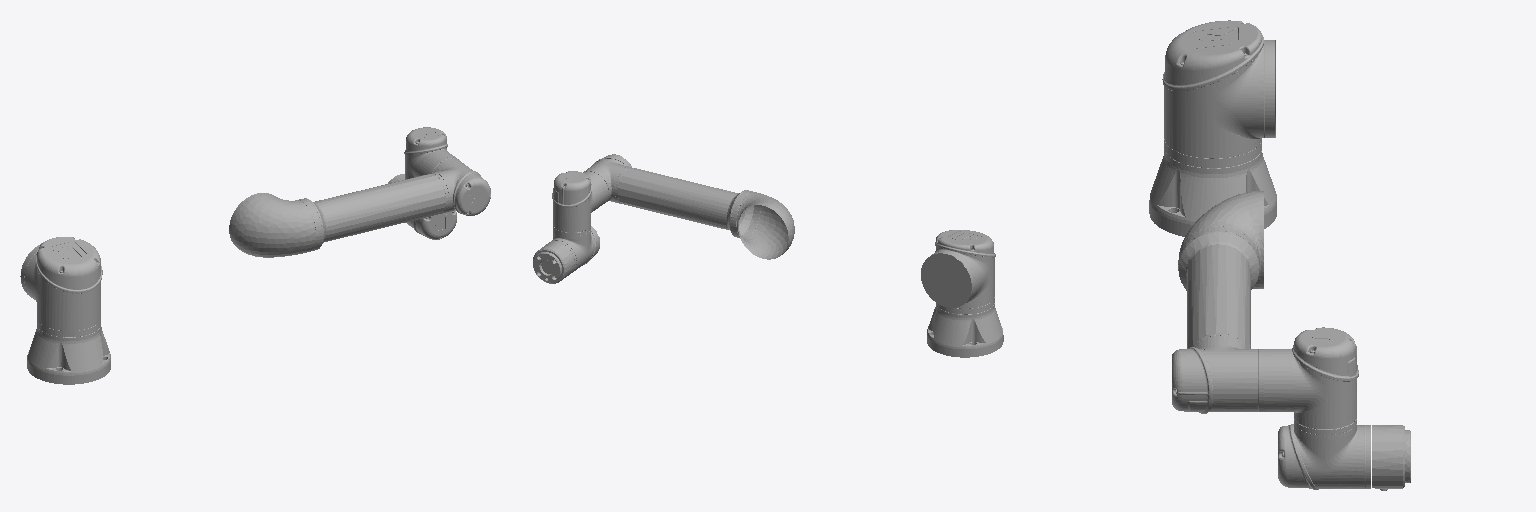
URDF robot description (ur5e_robot):
<?xml version="1.0" encoding="utf-8"?>
<!-- =================================================================================== -->
<!-- |    This document was autogenerated by xacro from ur5e.xacro                     | -->
<!-- |    EDITING THIS FILE BY HAND IS NOT RECOMMENDED                                 | -->
<!-- =================================================================================== -->
<robot name="ur5e_robot">
  <!--
    Base UR robot series xacro macro.

    NOTE: this is NOT a URDF. It cannot directly be loaded by consumers
    expecting a flattened '.urdf' file. See the top-level '.xacro' for that
    (but note: that .xacro must still be processed by the xacro command).

    For use in '.launch' files: use one of the 'load_urX.launch' convenience
    launch files.

    This file models the base kinematic chain of a UR robot, which then gets
    parameterised by various configuration files to convert it into a UR3(e),
    UR5(e), UR10(e) or UR16e.

    NOTE: the default kinematic parameters (ie: link lengths, frame locations,
    offets, etc) do not correspond to any particular robot. They are defaults
    only. There WILL be non-zero offsets between the Forward Kinematics results
    in TF (ie: robot_state_publisher) and the values reported by the Teach
    Pendant.

    For accurate (and robot-specific) transforms, the 'kinematics_parameters_file'
    parameter MUST point to a .yaml file containing the appropriate values for
    the targetted robot.

    If using the UniversalRobots/Universal_Robots_ROS_Driver, follow the steps
    described in the readme of that repository to extract the kinematic
    calibration from the controller and generate the required .yaml file.

    Main author of the migration to yaml configs: [author].

    Contributors to previous versions (in no particular order):

     - [author]
     - [author]
     - [author]
     - [author]
     - [author]
     - [author]
     - [author]
     - [author]
     - [author]
     - [author]
     - [author]
     - [author]
     - [author]
     - [author]
     - [author]
     - [author]
     - [author]
  -->
  <!--
    NOTE: the macro defined in this file is NOT part of the public API of this
          package. Users CANNOT rely on this file being available, or stored in
          this location. Nor can they rely on the existence of the macro.
  -->
  <link name="base_link"/>
  <link name="base_link_inertia">
    <visual>
      <origin rpy="0 0 3.14159265359" xyz="0 0 0"/>
      <geometry>
        <mesh filename="./meshes/ur5e/visual/base.obj"/>
      </geometry>
      <material name="LightGrey">
        <color rgba="0.7 0.7 0.7 1.0"/>
      </material>
    </visual>
    <collision>
      <origin rpy="0 0 3.14159265359" xyz="0 0 0"/>
      <geometry>
        <mesh filename="./meshes/ur5e/collision/base.obj"/>
      </geometry>
    </collision>
    <inertial>
      <mass value="4.0"/>
      <origin rpy="0 0 0" xyz="0 0 0"/>
      <inertia ixx="0.00443333156" ixy="0.0" ixz="0.0" iyy="0.00443333156" iyz="0.0" izz="0.0072"/>
    </inertial>
  </link>
  <link name="shoulder_link">
    <visual>
      <origin rpy="0 0 3.14159265359" xyz="0 0 0"/>
      <geometry>
        <mesh filename="./meshes/ur5e/visual/shoulder_1.obj"/>
      </geometry>
      <material name="LightGrey">
        <color rgba="0.7 0.7 0.7 1.0"/>
      </material>
    </visual>
    <collision>
      <origin rpy="0 0 3.14159265359" xyz="0 0 0"/>
      <geometry>
        <mesh filename="./meshes/ur5e/collision/shoulder.obj"/>
      </geometry>
    </collision>
    <inertial>
      <mass value="3.7"/>
      <origin rpy="0 0 0" xyz="0 0 0"/>
      <inertia ixx="0.010267495893" ixy="0.0" ixz="0.0" iyy="0.010267495893" iyz="0.0" izz="0.00666"/>
    </inertial>
  </link>
  <link name="upper_arm_link">
    <visual>
      <origin rpy="1.57079632679 0 -1.57079632679" xyz="0 0 0.138"/>
      <geometry>
        <mesh filename="./meshes/ur5e/visual/upperarm_2.obj"/>
      </geometry>
      <material name="LightGrey">
        <color rgba="0.7 0.7 0.7 1.0"/>
      </material>
    </visual>
    <collision>
      <origin rpy="1.57079632679 0 -1.57079632679" xyz="0 0 0.138"/>
      <geometry>
        <mesh filename="./meshes/ur5e/collision/upperarm.obj"/>
      </geometry>
    </collision>
    <inertial>
      <mass value="8.393"/>
      <origin rpy="0 1.57079632679 0" xyz="-0.2125 0.0 0.138"/>
      <inertia ixx="0.133885781862" ixy="0.0" ixz="0.0" iyy="0.133885781862" iyz="0.0" izz="0.0151074"/>
    </inertial>
  </link>
  <link name="forearm_link">
    <visual>
      <origin rpy="1.57079632679 0 -1.57079632679" xyz="0 0 0.007"/>
      <geometry>
        <mesh filename="./meshes/ur5e/visual/forearm_4.obj"/>
      </geometry>
      <material name="LightGrey">
        <color rgba="0.7 0.7 0.7 1.0"/>
      </material>
    </visual>
    <collision>
      <origin rpy="1.57079632679 0 -1.57079632679" xyz="0 0 0.007"/>
      <geometry>
        <mesh filename="./meshes/ur5e/collision/forearm.obj"/>
      </geometry>
    </collision>
    <inertial>
      <mass value="2.275"/>
      <origin rpy="0 1.57079632679 0" xyz="-0.1961 0.0 0.007"/>
      <inertia ixx="0.0312093550996" ixy="0.0" ixz="0.0" iyy="0.0312093550996" iyz="0.0" izz="0.004095"/>
    </inertial>
  </link>
  <link name="wrist_1_link">
    <visual>
      <!-- TODO: Move this to a parameter -->
      <origin rpy="1.57079632679 0 0" xyz="0 0 -0.127"/>
      <geometry>
        <mesh filename="./meshes/ur5e/visual/wrist1.obj"/>
      </geometry>
      <material name="LightGrey">
        <color rgba="0.7 0.7 0.7 1.0"/>
      </material>
    </visual>
    <collision>
      <origin rpy="1.57079632679 0 0" xyz="0 0 -0.127"/>
      <geometry>
        <mesh filename="./meshes/ur5e/collision/wrist1.obj"/>
      </geometry>
    </collision>
    <inertial>
      <mass value="1.219"/>
      <origin rpy="0 0 0" xyz="0 0 0"/>
      <inertia ixx="0.00255989897604" ixy="0.0" ixz="0.0" iyy="0.00255989897604" iyz="0.0" izz="0.0021942"/>
    </inertial>
  </link>
  <link name="wrist_2_link">
    <visual>
      <origin rpy="0 0 0" xyz="0 0 -0.0997"/>
      <geometry>
        <mesh filename="./meshes/ur5e/visual/wrist2.obj"/>
      </geometry>
      <material name="LightGrey">
        <color rgba="0.7 0.7 0.7 1.0"/>
      </material>
    </visual>
    <collision>
      <origin rpy="0 0 0" xyz="0 0 -0.0997"/>
      <geometry>
        <mesh filename="./meshes/ur5e/collision/wrist2.obj"/>
      </geometry>
    </collision>
    <inertial>
      <mass value="1.219"/>
      <origin rpy="0 0 0" xyz="0 0 0"/>
      <inertia ixx="0.00255989897604" ixy="0.0" ixz="0.0" iyy="0.00255989897604" iyz="0.0" izz="0.0021942"/>
    </inertial>
  </link>
  <link name="wrist_3_link">
    <visual>
      <origin rpy="1.57079632679 0 0" xyz="0 0 -0.0989"/>
      <geometry>
        <mesh filename="./meshes/ur5e/visual/wrist3.obj"/>
      </geometry>
      <material name="LightGrey">
        <color rgba="0.7 0.7 0.7 1.0"/>
      </material>
    </visual>
    <collision>
      <origin rpy="1.57079632679 0 0" xyz="0 0 -0.0989"/>
      <geometry>
        <mesh filename="./meshes/ur5e/collision/wrist3.obj"/>
      </geometry>
    </collision>
    <inertial>
      <mass value="0.1879"/>
      <origin rpy="0 0 0" xyz="0.0 0.0 -0.0229"/>
      <inertia ixx="9.89041005217e-05" ixy="0.0" ixz="0.0" iyy="9.89041005217e-05" iyz="0.0" izz="0.0001321171875"/>
    </inertial>
  </link>
  <!-- joints: main serial chain -->
  <joint name="base_link-base_link_inertia" type="fixed">
    <parent link="base_link"/>
    <child link="base_link_inertia"/>
    <!-- 'base_link' is REP-103 aligned (so X+ forward), while the internal
           frames of the robot/controller have X+ pointing backwards.
           Use the joint between 'base_link' and 'base_link_inertia' (a dummy
           link/frame) to introduce the necessary rotation over Z (of pi rad).
      -->
    <origin rpy="0 0 3.14159265359" xyz="0 0 0"/>
  </joint>
  <joint name="shoulder_pan_joint" type="revolute">
    <parent link="base_link_inertia"/>
    <child link="shoulder_link"/>
    <origin rpy="0 0 0" xyz="0 0 0.1625"/>
    <axis xyz="0 0 1"/>
    <limit effort="150.0" lower="-6.28318530718" upper="6.28318530718" velocity="3.14159265359"/>
    <dynamics damping="0.5" friction="0"/>
  </joint>
  <joint name="shoulder_lift_joint" type="revolute">
    <parent link="shoulder_link"/>
    <child link="upper_arm_link"/>
    <origin rpy="1.570796327 0 0" xyz="0 0 0"/>
    <axis xyz="0 0 1"/>
    <limit effort="150.0" lower="-6.28318530718" upper="6.28318530718" velocity="3.14159265359"/>
    <dynamics damping="0.5" friction="0"/>
  </joint>
  <joint name="elbow_joint" type="revolute">
    <parent link="upper_arm_link"/>
    <child link="forearm_link"/>
    <origin rpy="0 0 0" xyz="-0.425 0 0"/>
    <axis xyz="0 0 1"/>
    <limit effort="150.0" lower="-3.14159265359" upper="3.14159265359" velocity="3.14159265359"/>
    <dynamics damping="0.5" friction="0"/>
  </joint>
  <joint name="wrist_1_joint" type="revolute">
    <parent link="forearm_link"/>
    <child link="wrist_1_link"/>
    <origin rpy="0 0 0" xyz="-0.3922 0 0.1333"/>
    <axis xyz="0 0 1"/>
    <limit effort="28.0" lower="-6.28318530718" upper="6.28318530718" velocity="3.14159265359"/>
    <dynamics damping="0.5" friction="0"/>
  </joint>
  <joint name="wrist_2_joint" type="revolute">
    <parent link="wrist_1_link"/>
    <child link="wrist_2_link"/>
    <origin rpy="1.570796327 0 0" xyz="0 -0.0997 -2.0448811823e-11"/>
    <axis xyz="0 0 1"/>
    <limit effort="28.0" lower="-6.28318530718" upper="6.28318530718" velocity="3.14159265359"/>
    <dynamics damping="0.5" friction="0"/>
  </joint>
  <joint name="wrist_3_joint" type="revolute">
    <parent link="wrist_2_link"/>
    <child link="wrist_3_link"/>
    <origin rpy="1.57079632659 3.14159265359 3.14159265359" xyz="0 0.0996 -2.04283014801e-11"/>
    <axis xyz="0 0 1"/>
    <limit effort="28.0" lower="-6.28318530718" upper="6.28318530718" velocity="3.14159265359"/>
    <dynamics damping="0" friction="0"/>
  </joint>
  <!-- ROS-Industrial 'base' frame: base_link to UR 'Base' Coordinates transform -->
  <link name="base"/>
  <joint name="base_link-base_fixed_joint" type="fixed">
    <!-- Note the rotation over Z of pi radians: as base_link is REP-103
           aligned (ie: has X+ forward, Y+ left and Z+ up), this is needed
           to correctly align 'base' with the 'Base' coordinate system of
           the UR controller.
      -->
    <origin rpy="0 0 3.14159265359" xyz="0 0 0"/>
    <parent link="base_link"/>
    <child link="base"/>
  </joint>
  <!-- ROS-Industrial 'flange' frame: attachment point for EEF models -->
  <link name="flange"/>
  <joint name="wrist_3-flange" type="fixed">
    <parent link="wrist_3_link"/>
    <child link="flange"/>
    <origin rpy="0 -1.57079632679 -1.57079632679" xyz="0 0 0"/>
  </joint>
  <!-- ROS-Industrial 'tool0' frame: all-zeros tool frame -->
  <link name="tool0"/>
  <joint name="flange-tool0" type="fixed">
    <!-- default toolframe: X+ left, Y+ up, Z+ front -->
    <origin rpy="1.57079632679 0 1.57079632679" xyz="0 0 0"/>
    <parent link="flange"/>
    <child link="tool0"/>
  </joint>
</robot>

--- Facts derived from the render (not from the file) ---
The picture shows the robot from 3 angles, left to right: view 1: azimuth 30°, elevation 25°; view 2: azimuth 150°, elevation 25°; view 3: azimuth 270°, elevation 25°; orthographic projection.
Robot: ur5e_robot — 11 links, 10 joints (6 revolute, 4 fixed); root link base_link; default pose: all joints at 0.
Links seen in each view (by area): view 1: forearm_link, shoulder_link, base_link_inertia, wrist_1_link, wrist_2_link; view 2: forearm_link, shoulder_link, base_link_inertia, wrist_1_link, wrist_3_link, wrist_2_link; view 3: forearm_link, shoulder_link, wrist_1_link, base_link_inertia, wrist_2_link, wrist_3_link.
Link boxes in pixels (x1,y1,x2,y2): forearm_link: (229,157,490,257); shoulder_link: (20,237,102,330); base_link_inertia: (27,320,110,384); wrist_1_link: (404,127,458,179); wrist_2_link: (406,210,456,239); forearm_link: (583,154,794,259); shoulder_link: (921,230,995,308); base_link_inertia: (927,297,1003,357); wrist_1_link: (552,171,606,235); wrist_3_link: (533,242,574,283); wrist_2_link: (549,226,599,272); forearm_link: (1172,191,1263,413); shoulder_link: (1162,20,1275,157); wrist_1_link: (1264,327,1358,434); base_link_inertia: (1149,139,1276,236); wrist_2_link: (1278,424,1370,489); wrist_3_link: (1372,425,1410,490).
Size in the robot's own frame: 0.932 by 0.3085 by 0.234 metres.
Meshes: 7 distinct files referenced, 6 mesh visuals loaded (6 OBJ); not drawn: 1 (reference not matched to a file when rendering).